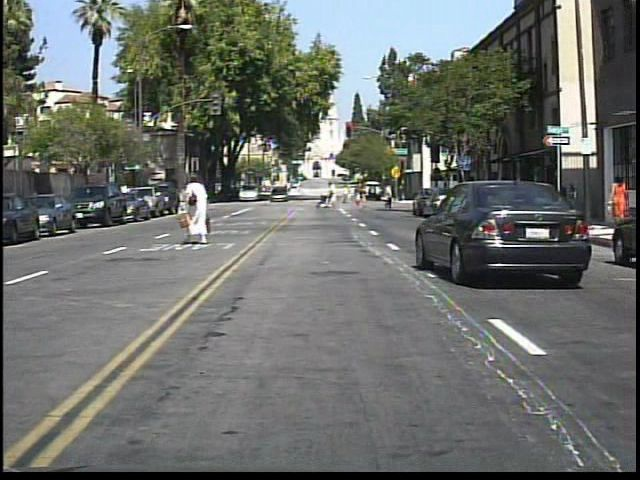person: (179, 168, 221, 251), (607, 167, 633, 228), (496, 170, 516, 219), (381, 181, 398, 212), (327, 180, 341, 210)
